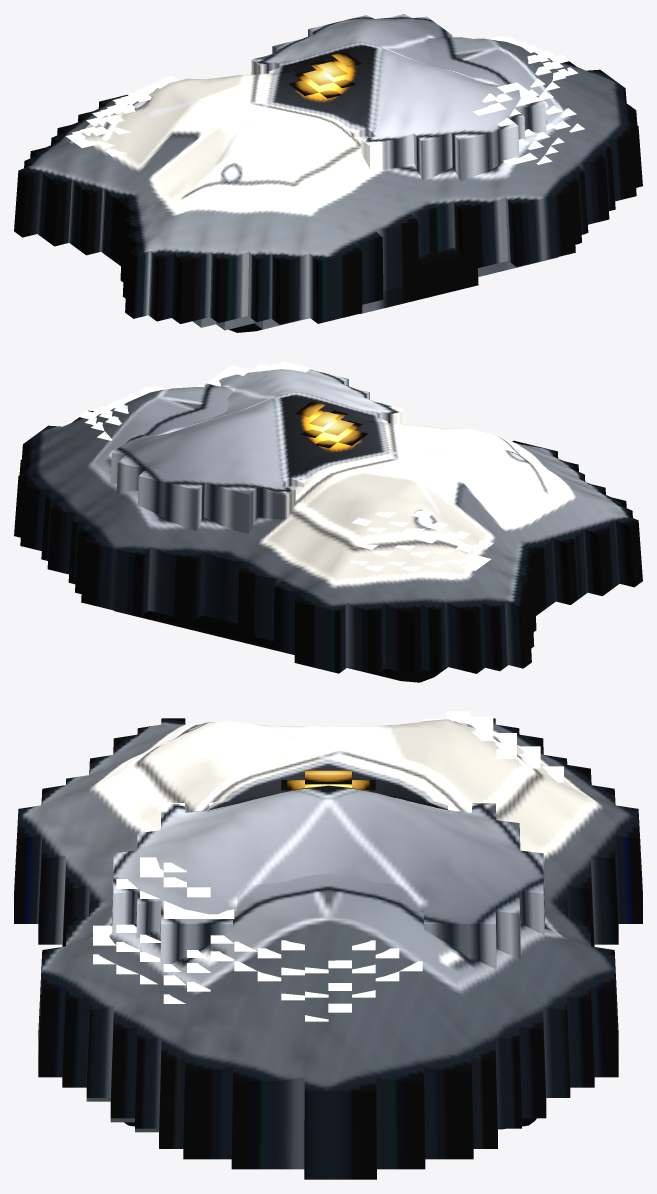
3 views of the same model, one above another, from view 1: azimuth 30°, elevation 25°; view 2: azimuth 150°, elevation 25°; view 3: azimuth 270°, elevation 25° (orthographic). The views are drawn at different scales.
Parts seen in each view (by area): view 1: chassis-heightfield, twin-frame-relief, semantic-team-surfaces, underbody-layered-relief, authored-emissive-surfaces; view 2: chassis-heightfield, twin-frame-relief, semantic-team-surfaces, hover-plenum, authored-emissive-surfaces; view 3: chassis-heightfield, twin-frame-relief, semantic-team-surfaces, authored-emissive-surfaces.
Part boxes in pixels (x1,y1,x2,y2): chassis-heightfield: (14, 37, 642, 324); twin-frame-relief: (251, 14, 546, 180); semantic-team-surfaces: (65, 36, 584, 165); underbody-layered-relief: (192, 233, 585, 330); authored-emissive-surfaces: (289, 52, 361, 98); chassis-heightfield: (14, 387, 642, 675); twin-frame-relief: (110, 369, 405, 533); semantic-team-surfaces: (78, 361, 493, 579); hover-plenum: (113, 610, 447, 682); authored-emissive-surfaces: (295, 401, 368, 448); chassis-heightfield: (14, 718, 642, 1179); twin-frame-relief: (112, 784, 544, 969); semantic-team-surfaces: (93, 711, 563, 1021); authored-emissive-surfaces: (281, 770, 375, 790).
Size of the model in its own units: 0.9 by 0.2866 by 0.6324.
5 materials, 4 textured.
